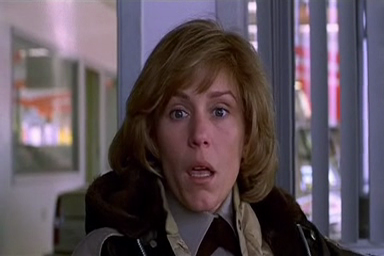cu: (1, 1, 384, 256)
face: (160, 78, 242, 212)
person: (70, 17, 363, 256)
